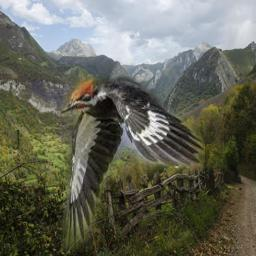Woodpecker: (61, 76, 205, 252)
